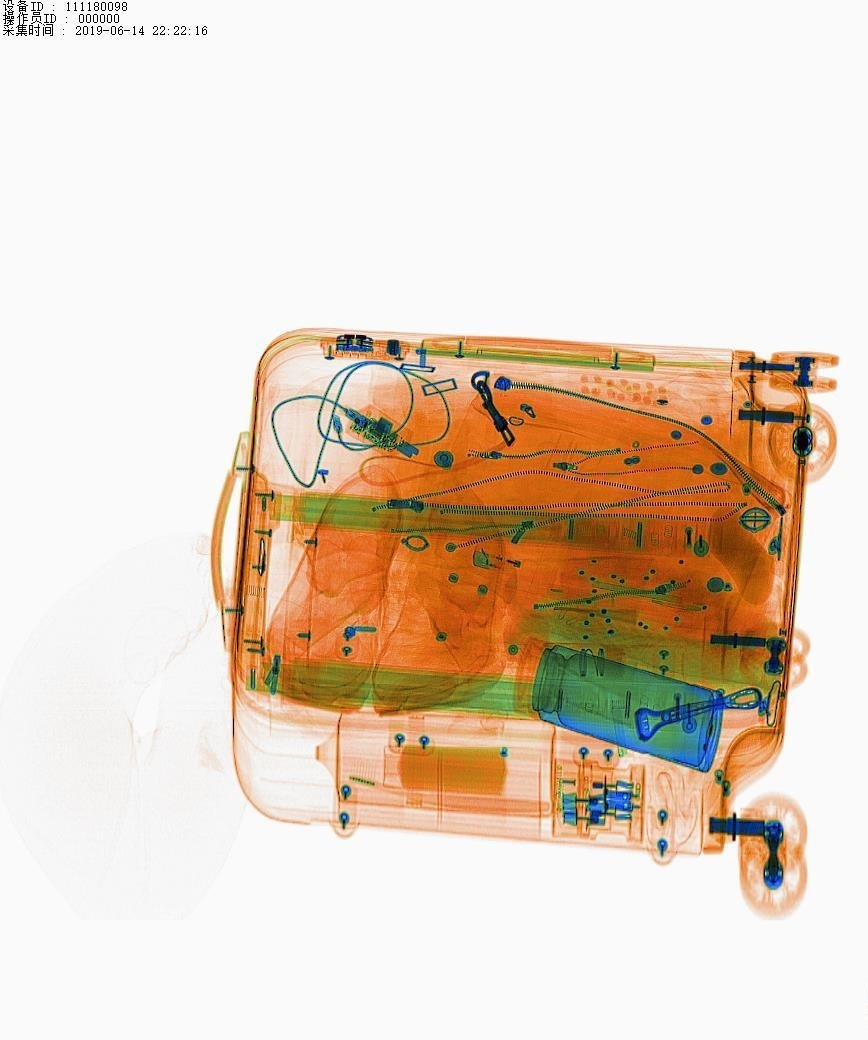NonmetallicFire: (463, 531, 570, 597)
